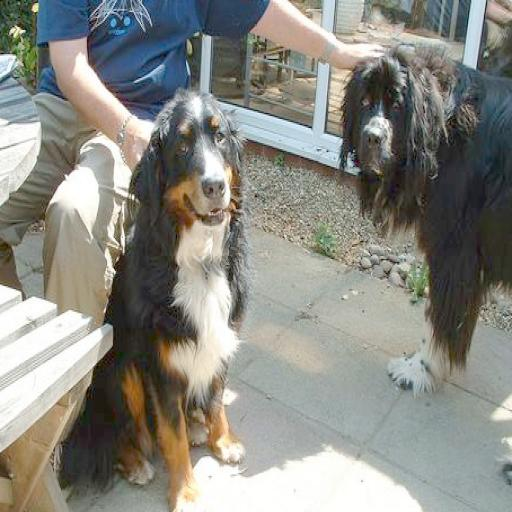dog_face: (140, 98, 245, 230)
